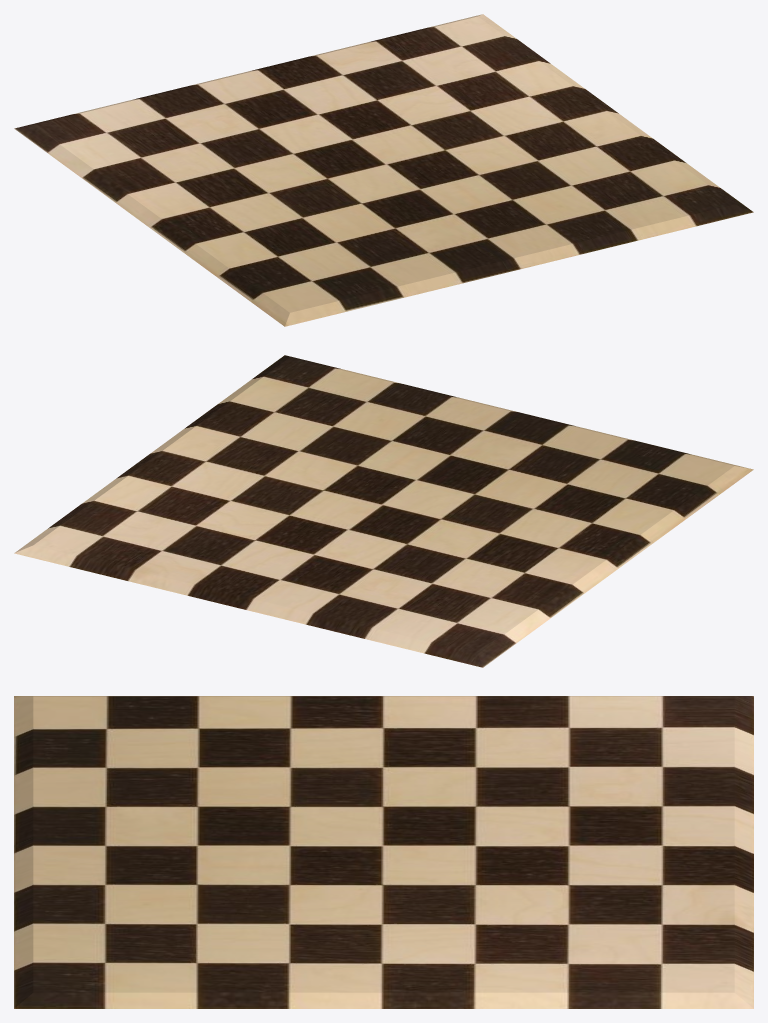
The model's file is board_v2.FBX.
The picture shows the model from 3 angles, top to bottom: view 1: azimuth 30°, elevation 25°; view 2: azimuth 150°, elevation 25°; view 3: azimuth 270°, elevation 25°; orthographic projection. The views are drawn at different scales.
Parts seen in each view (by area): view 1: Board; view 2: Board; view 3: Board.
Part boxes in pixels (x1,y1,x2,y2): Board: (14, 14, 753, 326); Board: (14, 355, 753, 667); Board: (14, 696, 753, 1008).
Size of the model in its own units: 844 by 10 by 844.
